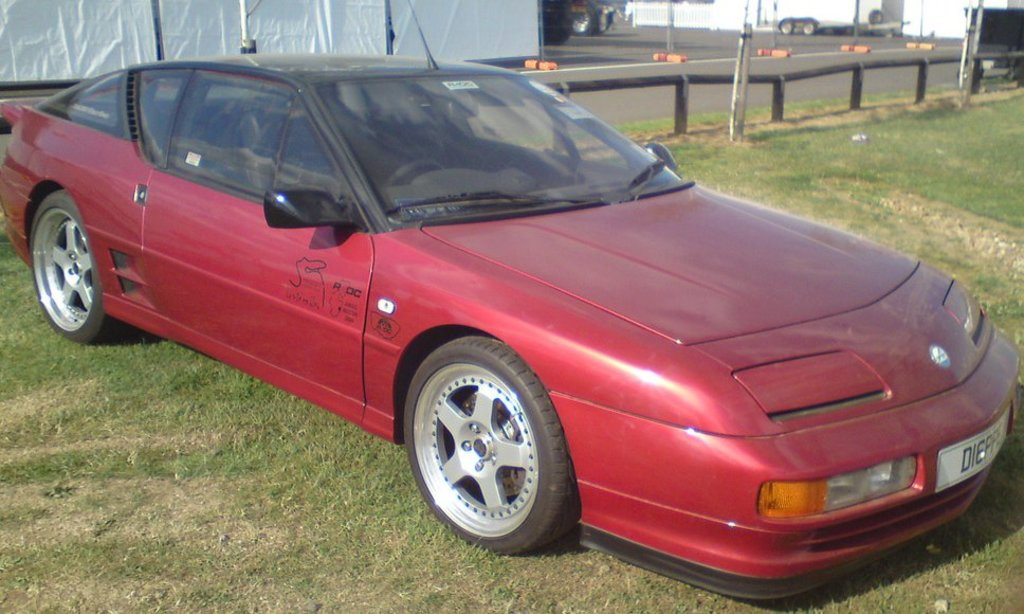Car: (0, 0, 1022, 604)
